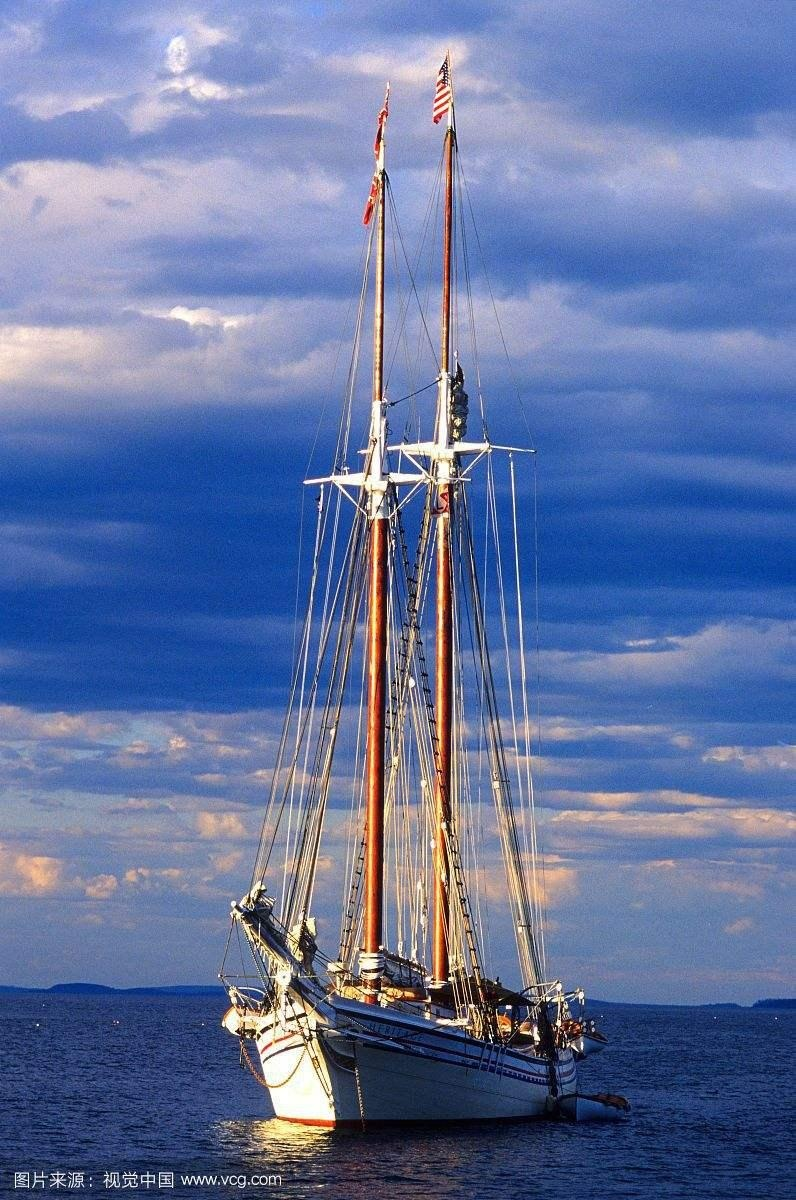fanchuan: (214, 24, 620, 1132)
